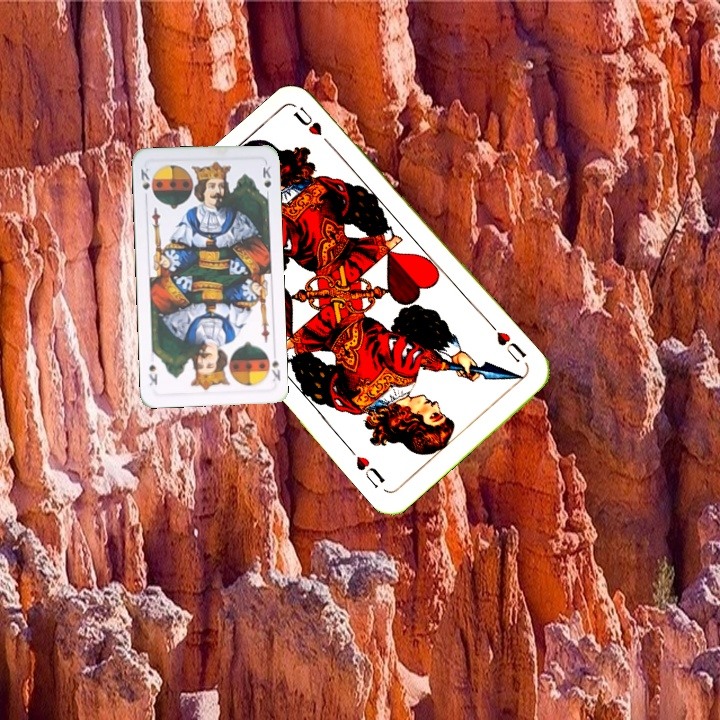HU: (487, 321, 529, 366)
SK: (137, 164, 152, 192), (268, 356, 283, 383)
